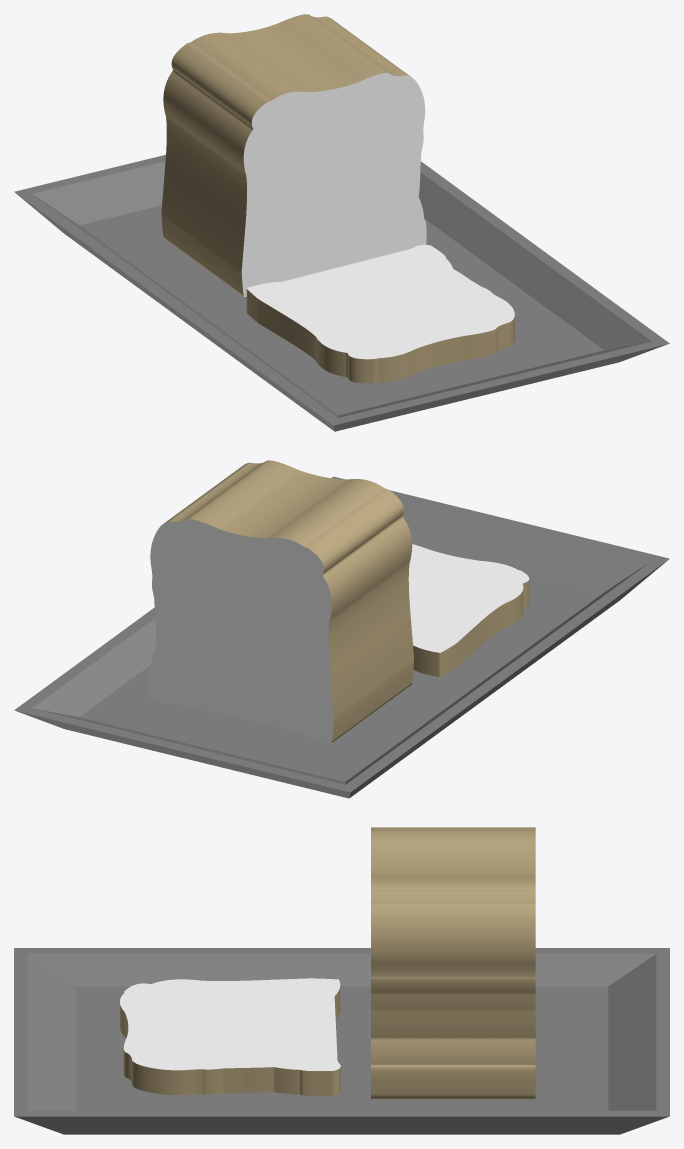
3 renders of one model, top to bottom at view 1: azimuth 30°, elevation 25°; view 2: azimuth 150°, elevation 25°; view 3: azimuth 270°, elevation 25°, orthographic. The views are drawn at different scales.
Visible parts, largest first — view 1: Group_001, Component#3_001, Component#3_007, Component#3_003, Component#3_005, Component#3_004, Component#3_006, Component#3_002; view 2: Group_001, Component#3_006, Component#3_007, Component#3_004, Component#3_001, Component#3_003, Component#3_005, Component#3_002; view 3: Group_001, Component#3_007, Component#3_005, Component#3_003, Component#3_006, Component#3_004, Component#3_002, Component#3_001.
Part boxes in pixels (x1,y1,x2,y2): Group_001: (14, 155, 669, 431); Component#3_001: (228, 63, 426, 296); Component#3_007: (246, 244, 514, 383); Component#3_003: (201, 43, 383, 276); Component#3_005: (174, 24, 356, 257); Component#3_004: (188, 33, 370, 267); Component#3_006: (161, 14, 343, 247); Component#3_002: (215, 53, 396, 286); Group_001: (14, 476, 669, 798); Component#3_006: (149, 509, 347, 743); Component#3_007: (408, 544, 529, 677); Component#3_004: (192, 489, 373, 722); Component#3_001: (232, 460, 414, 693); Component#3_003: (206, 480, 387, 713); Component#3_005: (178, 499, 360, 732); Component#3_002: (218, 470, 400, 703); Group_001: (14, 948, 669, 1134); Component#3_007: (120, 978, 340, 1095); Component#3_005: (480, 827, 508, 1099); Component#3_003: (425, 827, 453, 1099); Component#3_006: (508, 827, 535, 1099); Component#3_004: (453, 827, 480, 1099); Component#3_002: (398, 827, 425, 1099); Component#3_001: (371, 827, 398, 1099).
Size of the model in its own units: 2.47 by 1.43 by 4.06.
